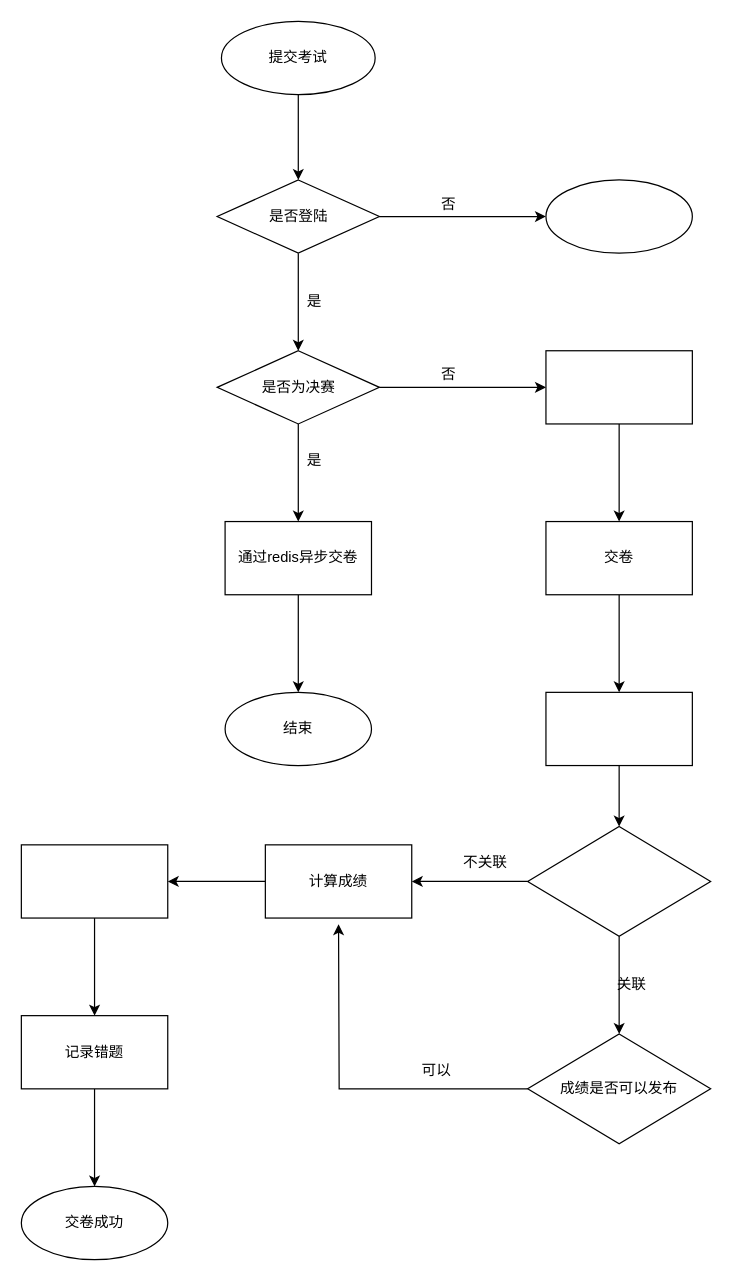
This 732x1281 diagram has some shape labels left out. Here are the shapes that lost their labels. From the top down, the centre of each, then its label:
the point at 618,216: 返回结果
the point at 618,387: 获取用户试卷
the point at 618,728: 处理异步提交的试题答案
the point at 94,881: 填充未回答的题
the point at 618,880: 是否关联环节
